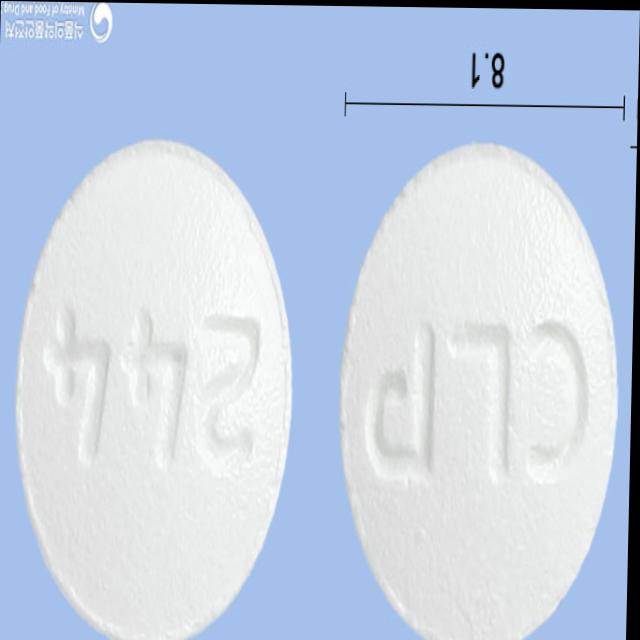Amoxicle-7-1-: (335, 138, 624, 640), (12, 134, 297, 640)
